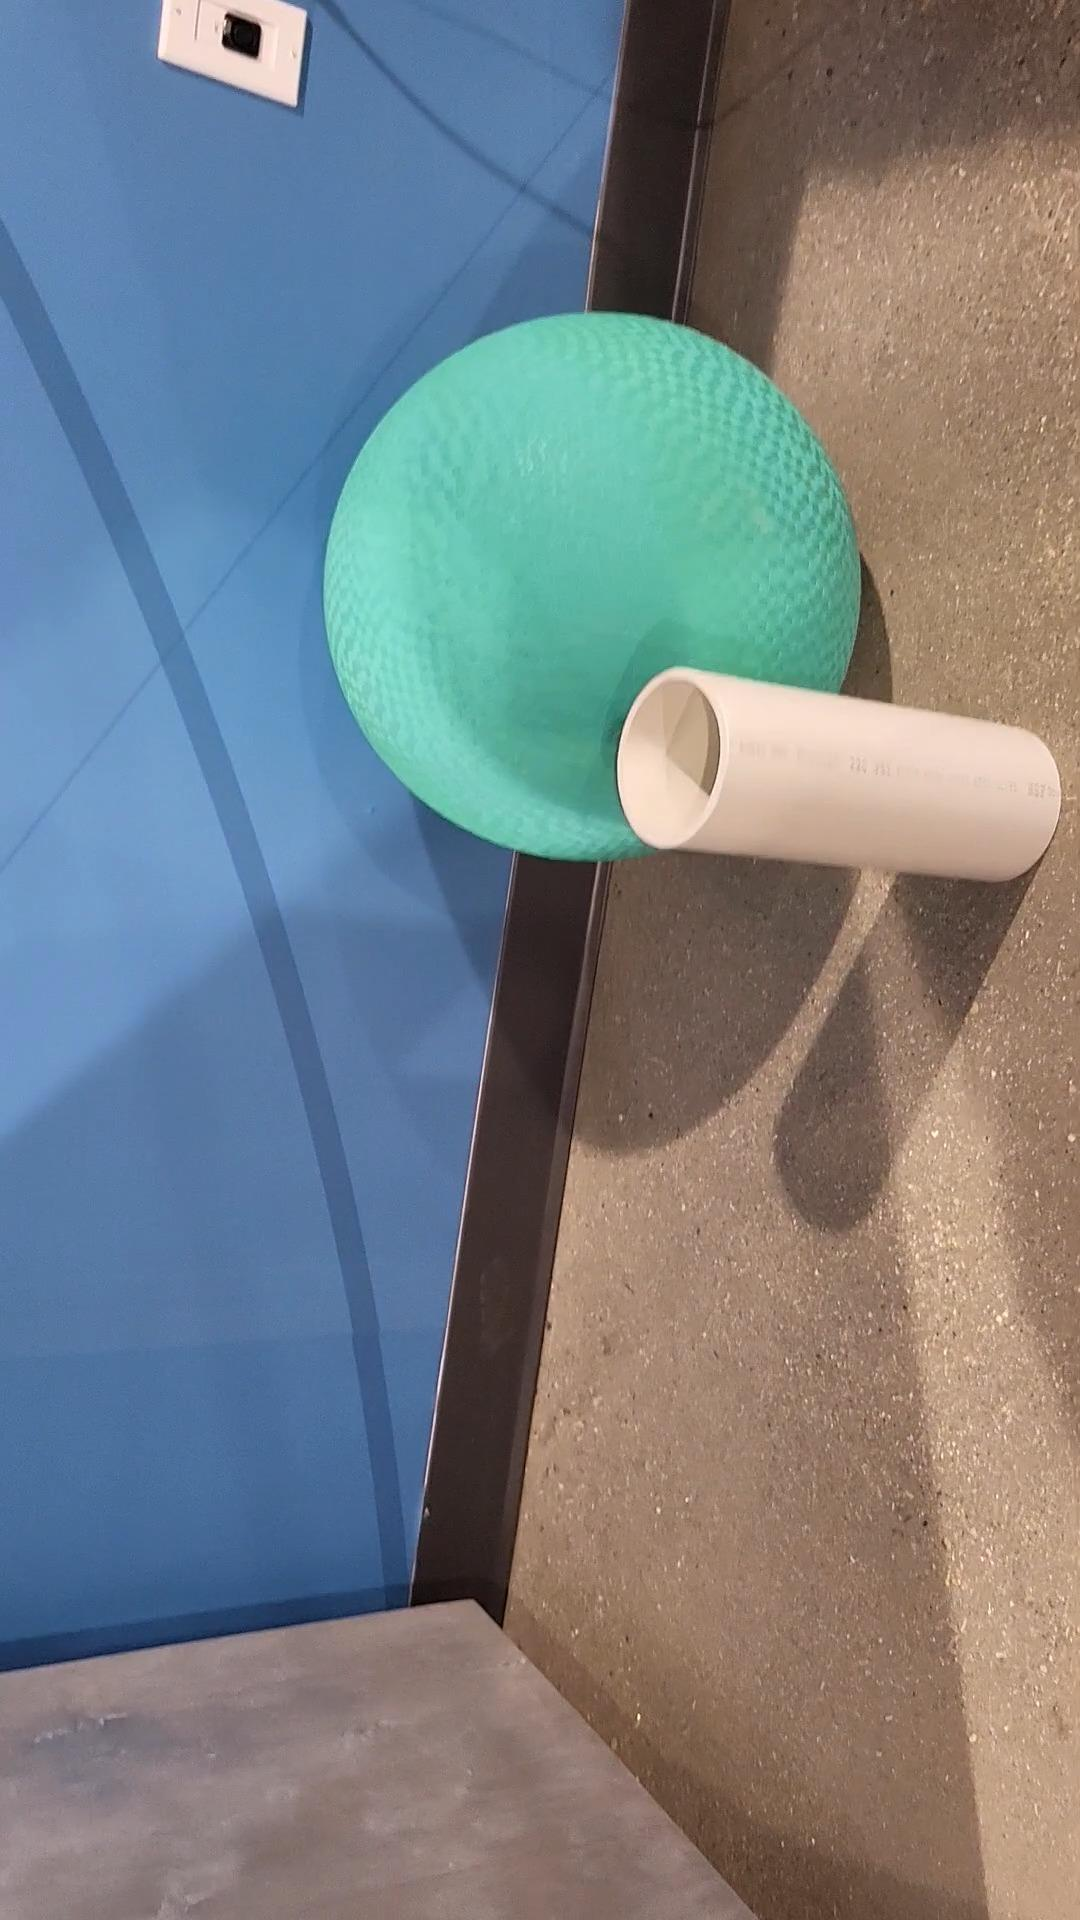algae: (326, 313, 861, 861)
coral: (617, 666, 1063, 885)
